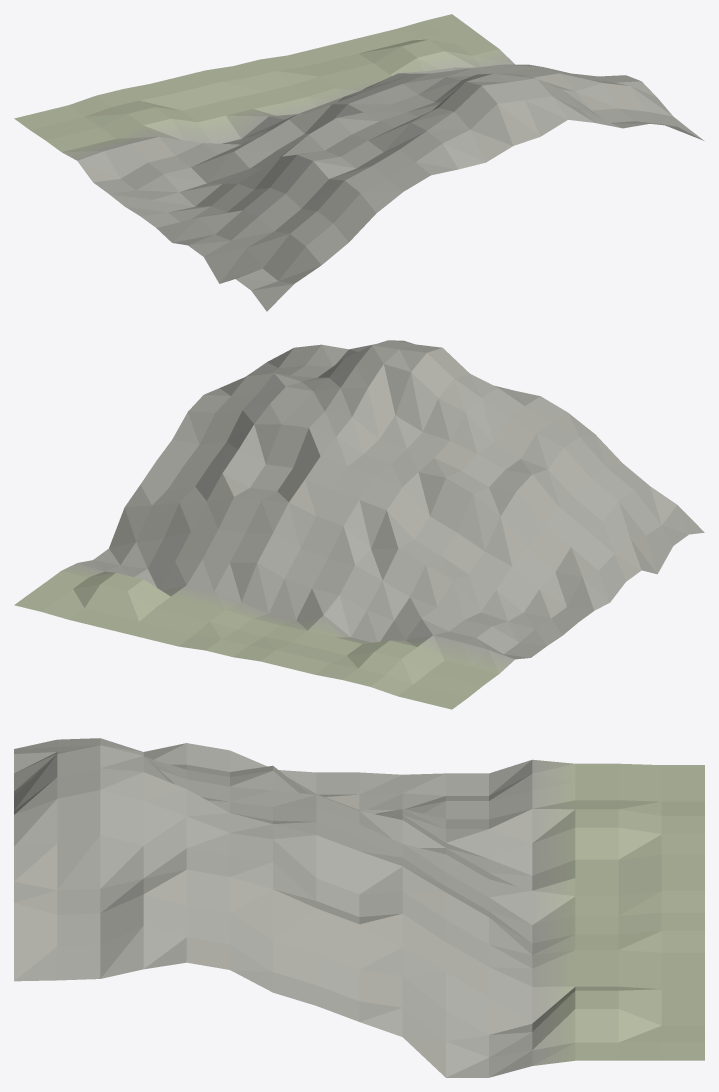
3 renders of one model, top to bottom at view 1: azimuth 30°, elevation 25°; view 2: azimuth 150°, elevation 25°; view 3: azimuth 270°, elevation 25°, orthographic. The views are drawn at different scales.
Size of the model in its own units: 32 by 10.49 by 32.
